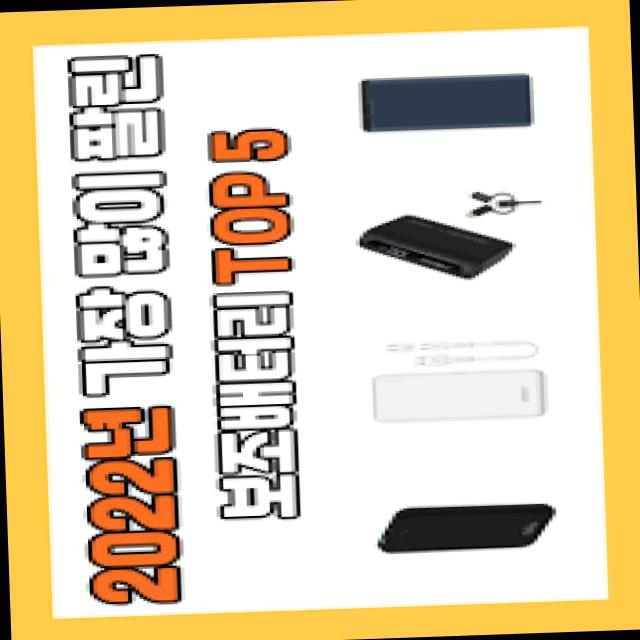power_bank: (351, 62, 543, 141), (345, 208, 521, 288), (366, 492, 564, 560), (358, 366, 548, 430)
